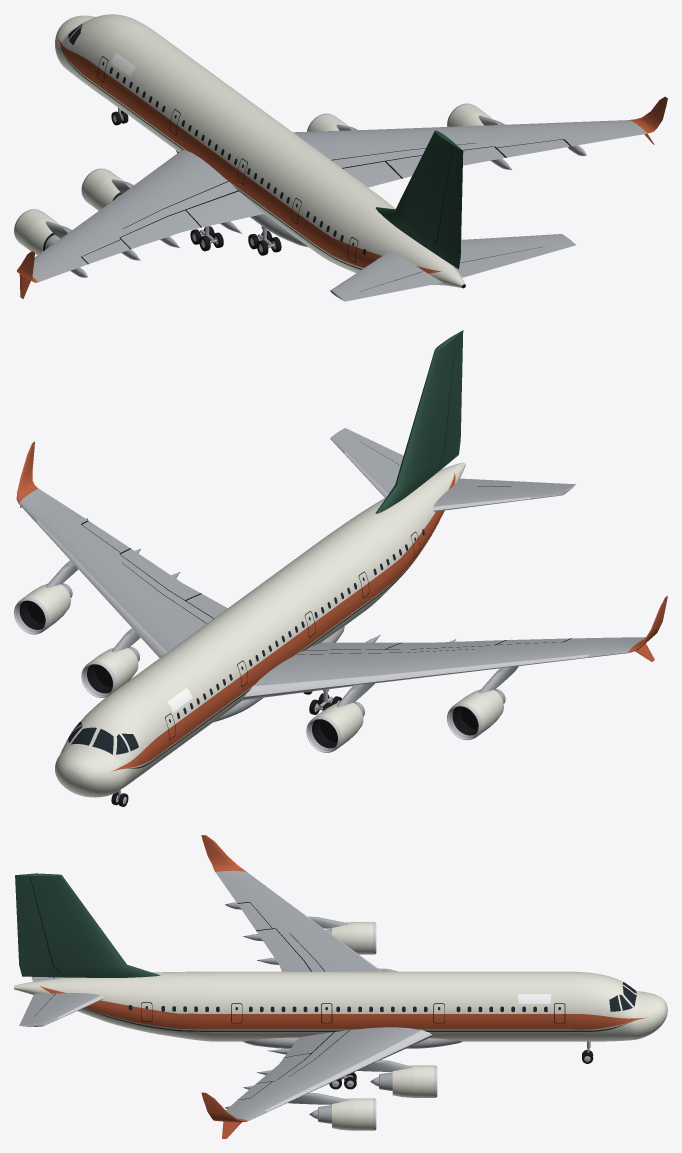
Rendered from jaz-120.glb.
3 renders of one model, top to bottom at view 1: azimuth 30°, elevation 25°; view 2: azimuth 150°, elevation 25°; view 3: azimuth 270°, elevation 25°, orthographic. The views are drawn at different scales.
Parts seen in each view (by area): view 1: fuselaje, ala, cintura, deriva, estabilizador, timon-de-direccion-piel, flap-fuera-izquierda-piel, motor-1, franja-fija, motor-0, profundidad-derecha-piel, flap-fuera-derecha-piel (+10 smaller); view 2: fuselaje, ala, cintura, deriva, estabilizador, motor-1, motor-0, timon-de-direccion-piel, flap-fuera-derecha-piel, motor-1-manguito, motor-0-manguito, pilon-1 (+1 smaller); view 3: fuselaje, ala, cintura, deriva, timon-de-direccion-piel, motor-1, estabilizador, motor-0, flap-fuera-izquierda-piel, motor-1-manguito, cintura-fina, carenado (+6 smaller).
Boxes of the visible parts, bbox=[...] form: fuselaje: bbox=[55, 14, 465, 288]; ala: bbox=[16, 96, 667, 282]; cintura: bbox=[57, 38, 455, 273]; deriva: bbox=[375, 130, 462, 269]; estabilizador: bbox=[330, 234, 575, 301]; timon-de-direccion-piel: bbox=[437, 145, 463, 256]; flap-fuera-izquierda-piel: bbox=[120, 210, 200, 248]; motor-1: bbox=[14, 103, 485, 250]; franja-fija: bbox=[122, 143, 480, 233]; motor-0: bbox=[81, 113, 345, 210]; profundidad-derecha-piel: bbox=[459, 246, 550, 275]; flap-fuera-derecha-piel: bbox=[386, 146, 504, 178]; fuselaje: bbox=[55, 462, 465, 797]; ala: bbox=[16, 441, 667, 700]; cintura: bbox=[111, 472, 455, 771]; deriva: bbox=[375, 331, 461, 513]; estabilizador: bbox=[330, 428, 575, 511]; motor-1: bbox=[14, 583, 505, 740]; motor-0: bbox=[81, 647, 364, 752]; timon-de-direccion-piel: bbox=[444, 330, 463, 454]; flap-fuera-derecha-piel: bbox=[120, 549, 200, 599]; motor-1-manguito: bbox=[35, 583, 503, 726]; motor-0-manguito: bbox=[102, 647, 363, 738]; pilon-1: bbox=[46, 560, 518, 693]; fuselaje: bbox=[14, 971, 667, 1041]; ala: bbox=[201, 835, 432, 1122]; cintura: bbox=[40, 986, 646, 1029]; deriva: bbox=[15, 873, 160, 977]; timon-de-direccion-piel: bbox=[15, 875, 52, 966]; motor-1: bbox=[309, 922, 376, 1130]; estabilizador: bbox=[19, 977, 103, 1026]; motor-0: bbox=[370, 1065, 437, 1097]; flap-fuera-izquierda-piel: bbox=[256, 929, 310, 971]; motor-1-manguito: bbox=[332, 922, 353, 1130]; cintura-fina: bbox=[84, 1008, 630, 1031]; carenado: bbox=[243, 1037, 462, 1048].
Size of the model in its own units: 59.67 by 20.36 by 64.
